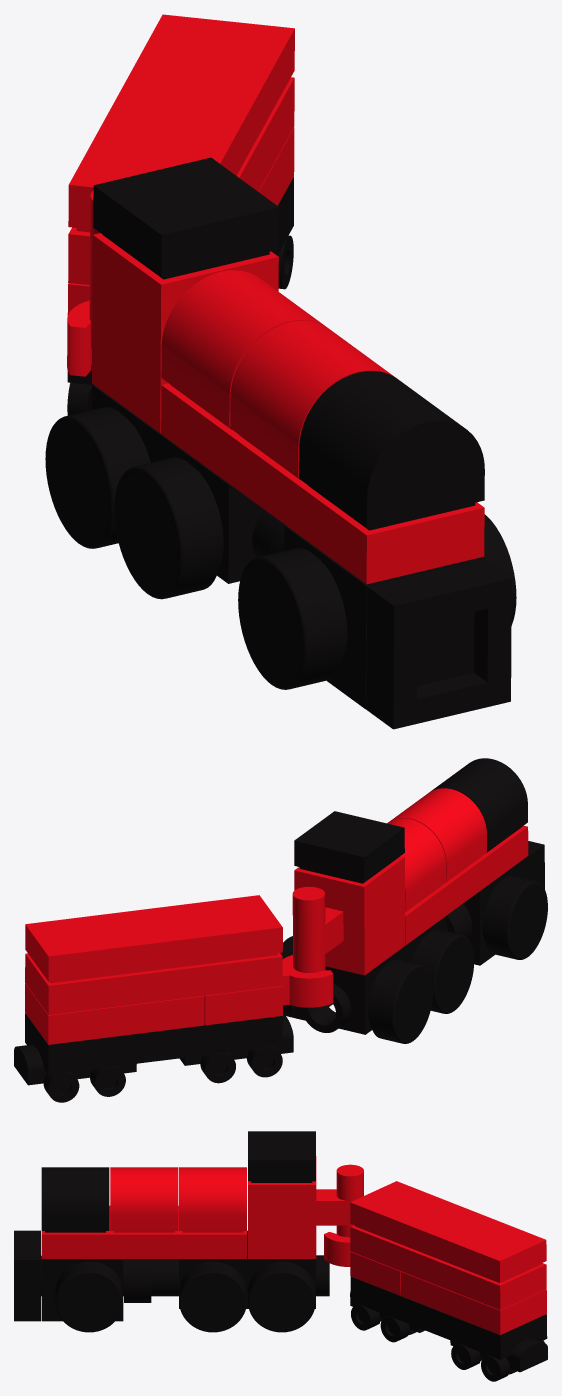
File: train.gltf
3 views of the same model, one above another, from view 1: azimuth 30°, elevation 25°; view 2: azimuth 150°, elevation 25°; view 3: azimuth 270°, elevation 25° (orthographic). The views are drawn at different scales.
Visible parts, largest first — view 1: Inner-Node-UntitledModel_dot_io-21.001, Inner-Node-UntitledModel_dot_io-13.001, Inner-Node-UntitledModel_dot_io-8.001, Inner-Node-UntitledModel_dot_io-9.001, Inner-Node-UntitledModel_dot_io-14.001, Inner-Node-UntitledModel_dot_io-10.001, Inner-Node-UntitledModel_dot_io-6.001, Inner-Node-UntitledModel_dot_io-5.001, Inner-Node-UntitledModel_dot_io-11.001, Inner-Node-UntitledModel_dot_io-12.001, Inner-Node-UntitledModel_dot_io-7.001, Inner-Node-UntitledModel_dot_io-0.001 (+6 smaller); view 2: Inner-Node-UntitledModel_dot_io-21.001, Inner-Node-UntitledModel_dot_io-10.001, Inner-Node-UntitledModel_dot_io-20.001, Inner-Node-UntitledModel_dot_io-16.001, Inner-Node-UntitledModel_dot_io-14.001, Inner-Node-UntitledModel_dot_io-19.001, Inner-Node-UntitledModel_dot_io-0.001, Inner-Node-UntitledModel_dot_io-7.001, Inner-Node-UntitledModel_dot_io-5.001, Inner-Node-UntitledModel_dot_io-18.001, Inner-Node-UntitledModel_dot_io-13.001, Inner-Node-UntitledModel_dot_io-12.001 (+7 smaller); view 3: Inner-Node-UntitledModel_dot_io-21.001, Inner-Node-UntitledModel_dot_io-10.001, Inner-Node-UntitledModel_dot_io-9.001, Inner-Node-UntitledModel_dot_io-20.001, Inner-Node-UntitledModel_dot_io-16.001, Inner-Node-UntitledModel_dot_io-12.001, Inner-Node-UntitledModel_dot_io-13.001, Inner-Node-UntitledModel_dot_io-11.001, Inner-Node-UntitledModel_dot_io-0.001, Inner-Node-UntitledModel_dot_io-2.001, Inner-Node-UntitledModel_dot_io-3.001, Inner-Node-UntitledModel_dot_io-4.001 (+7 smaller).
Part boxes in pixels (x1,y1,x2,y2): Inner-Node-UntitledModel_dot_io-21.001: [68, 14, 294, 232]; Inner-Node-UntitledModel_dot_io-13.001: [299, 371, 484, 530]; Inner-Node-UntitledModel_dot_io-8.001: [366, 558, 511, 729]; Inner-Node-UntitledModel_dot_io-9.001: [161, 383, 484, 584]; Inner-Node-UntitledModel_dot_io-14.001: [93, 157, 279, 279]; Inner-Node-UntitledModel_dot_io-10.001: [89, 190, 278, 433]; Inner-Node-UntitledModel_dot_io-6.001: [114, 457, 223, 599]; Inner-Node-UntitledModel_dot_io-5.001: [238, 548, 347, 689]; Inner-Node-UntitledModel_dot_io-11.001: [161, 270, 327, 429]; Inner-Node-UntitledModel_dot_io-12.001: [230, 320, 395, 479]; Inner-Node-UntitledModel_dot_io-7.001: [45, 407, 150, 548]; Inner-Node-UntitledModel_dot_io-0.001: [92, 384, 285, 583]; Inner-Node-UntitledModel_dot_io-21.001: [25, 895, 282, 983]; Inner-Node-UntitledModel_dot_io-10.001: [292, 856, 405, 975]; Inner-Node-UntitledModel_dot_io-20.001: [25, 953, 282, 1014]; Inner-Node-UntitledModel_dot_io-16.001: [25, 1013, 282, 1074]; Inner-Node-UntitledModel_dot_io-14.001: [294, 811, 404, 883]; Inner-Node-UntitledModel_dot_io-19.001: [25, 983, 204, 1044]; Inner-Node-UntitledModel_dot_io-0.001: [295, 904, 472, 1034]; Inner-Node-UntitledModel_dot_io-7.001: [368, 959, 433, 1043]; Inner-Node-UntitledModel_dot_io-5.001: [483, 875, 547, 959]; Inner-Node-UntitledModel_dot_io-18.001: [204, 955, 333, 1025]; Inner-Node-UntitledModel_dot_io-13.001: [430, 758, 527, 852]; Inner-Node-UntitledModel_dot_io-12.001: [389, 788, 486, 882]; Inner-Node-UntitledModel_dot_io-21.001: [350, 1181, 546, 1282]; Inner-Node-UntitledModel_dot_io-10.001: [248, 1156, 363, 1258]; Inner-Node-UntitledModel_dot_io-9.001: [41, 1205, 246, 1258]; Inner-Node-UntitledModel_dot_io-20.001: [350, 1225, 546, 1310]; Inner-Node-UntitledModel_dot_io-16.001: [350, 1276, 547, 1359]; Inner-Node-UntitledModel_dot_io-12.001: [110, 1167, 178, 1232]; Inner-Node-UntitledModel_dot_io-13.001: [41, 1167, 109, 1232]; Inner-Node-UntitledModel_dot_io-11.001: [179, 1167, 246, 1232]; Inner-Node-UntitledModel_dot_io-0.001: [124, 1230, 329, 1308]; Inner-Node-UntitledModel_dot_io-2.001: [55, 1261, 123, 1332]; Inner-Node-UntitledModel_dot_io-3.001: [179, 1261, 246, 1332]; Inner-Node-UntitledModel_dot_io-4.001: [248, 1261, 315, 1332].
Size of the model in its own units: 2.92 by 2.08 by 6.21.
